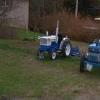Tractor: (27, 25, 83, 71)
